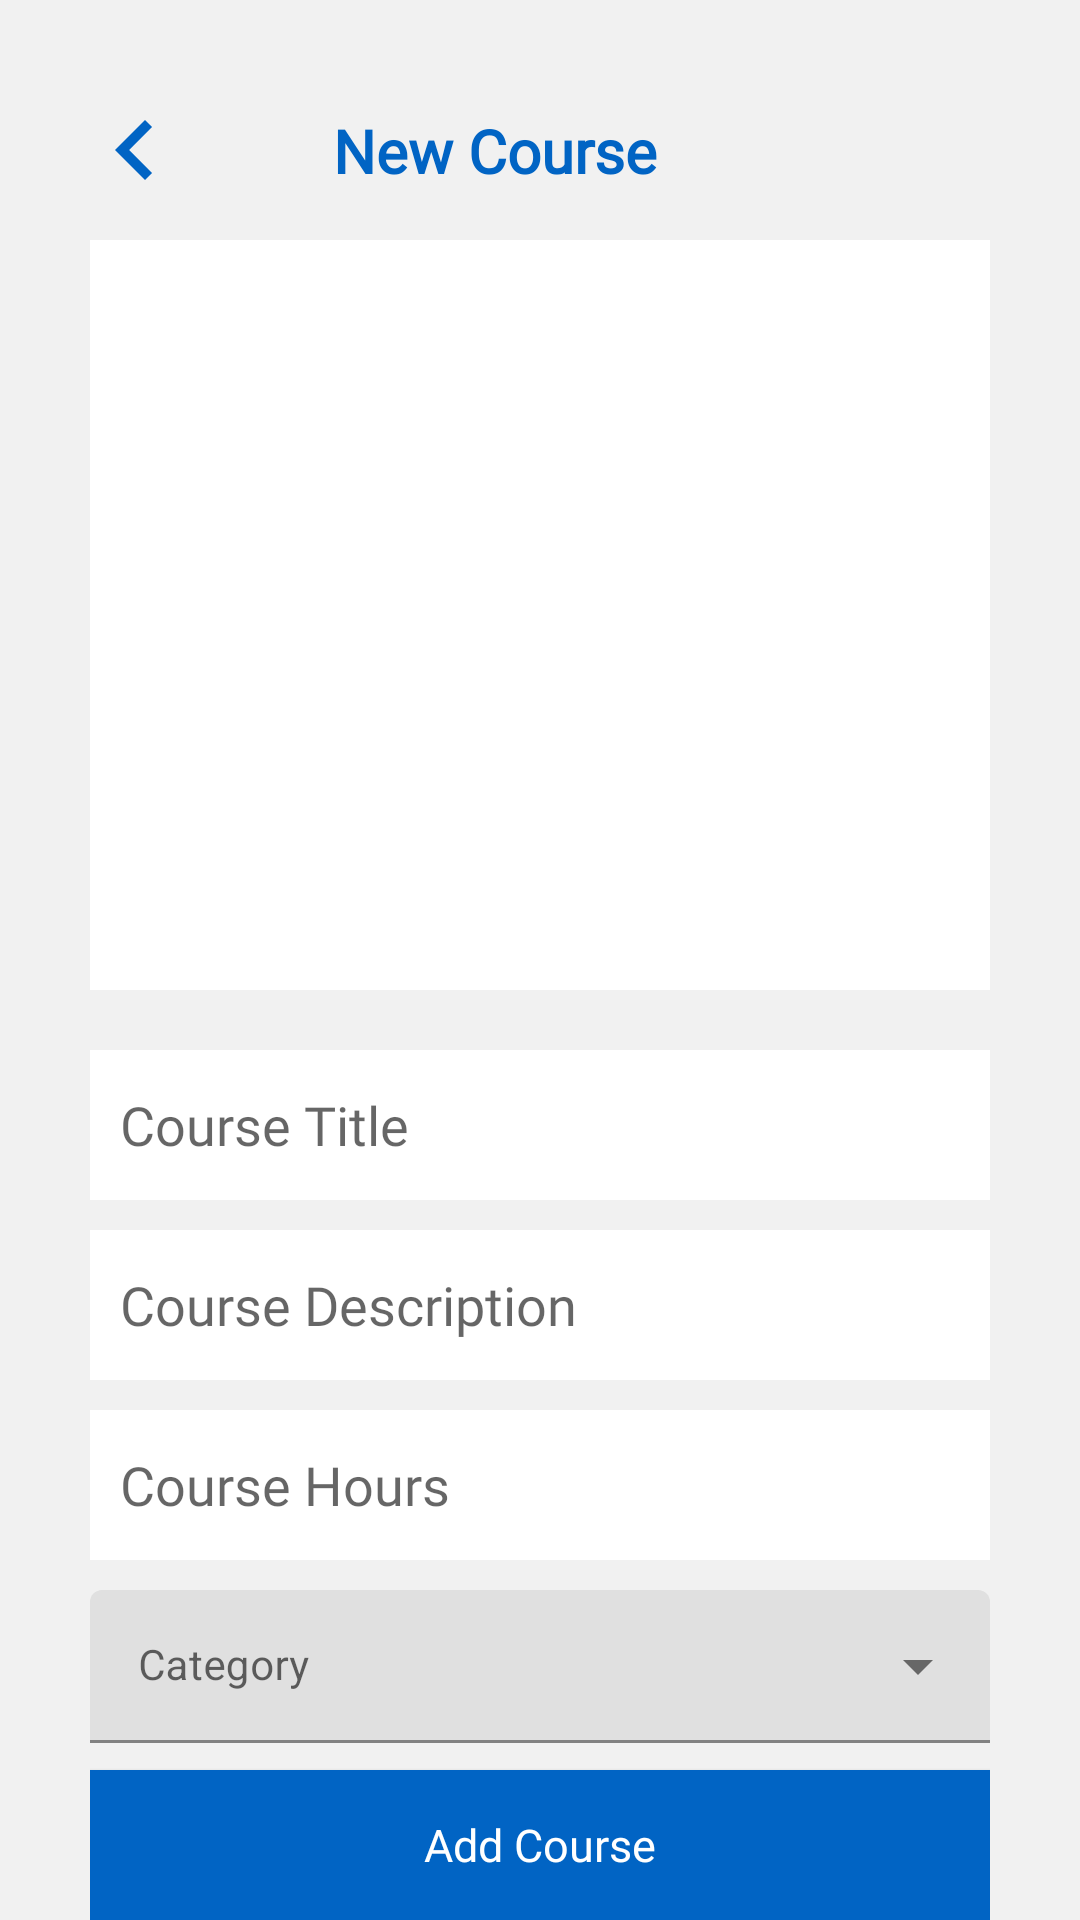

Where icons sit on this 1080px x 1920px app screen, as Rect(x1, y1, x2, y2):
left: Rect(115, 120, 152, 180)
